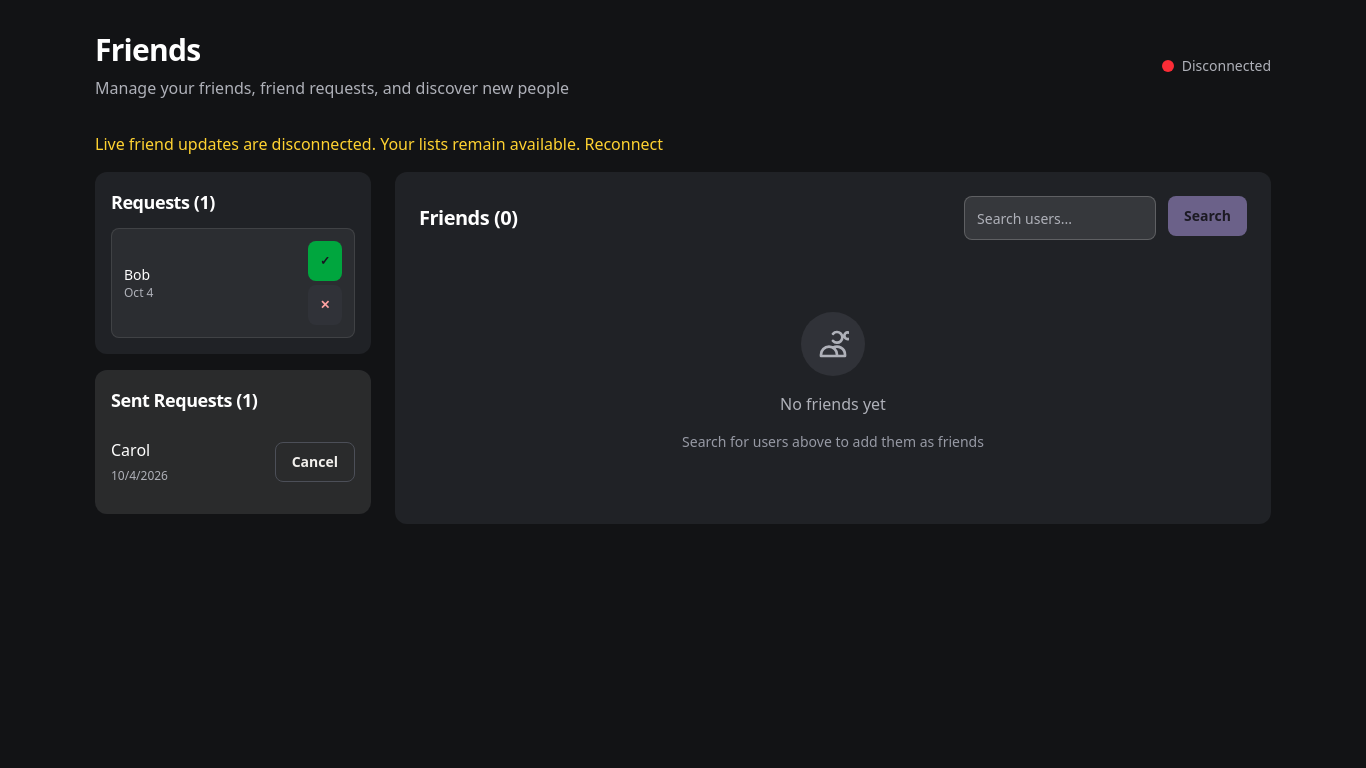
Test case: friend request UI transitions without an own realtime echo › keeps a rejected accept action, then adds the friend and locally removes it after success
Click the button named "Accept friend request from Bob".
click(325, 261)  # box [308, 241, 342, 281]
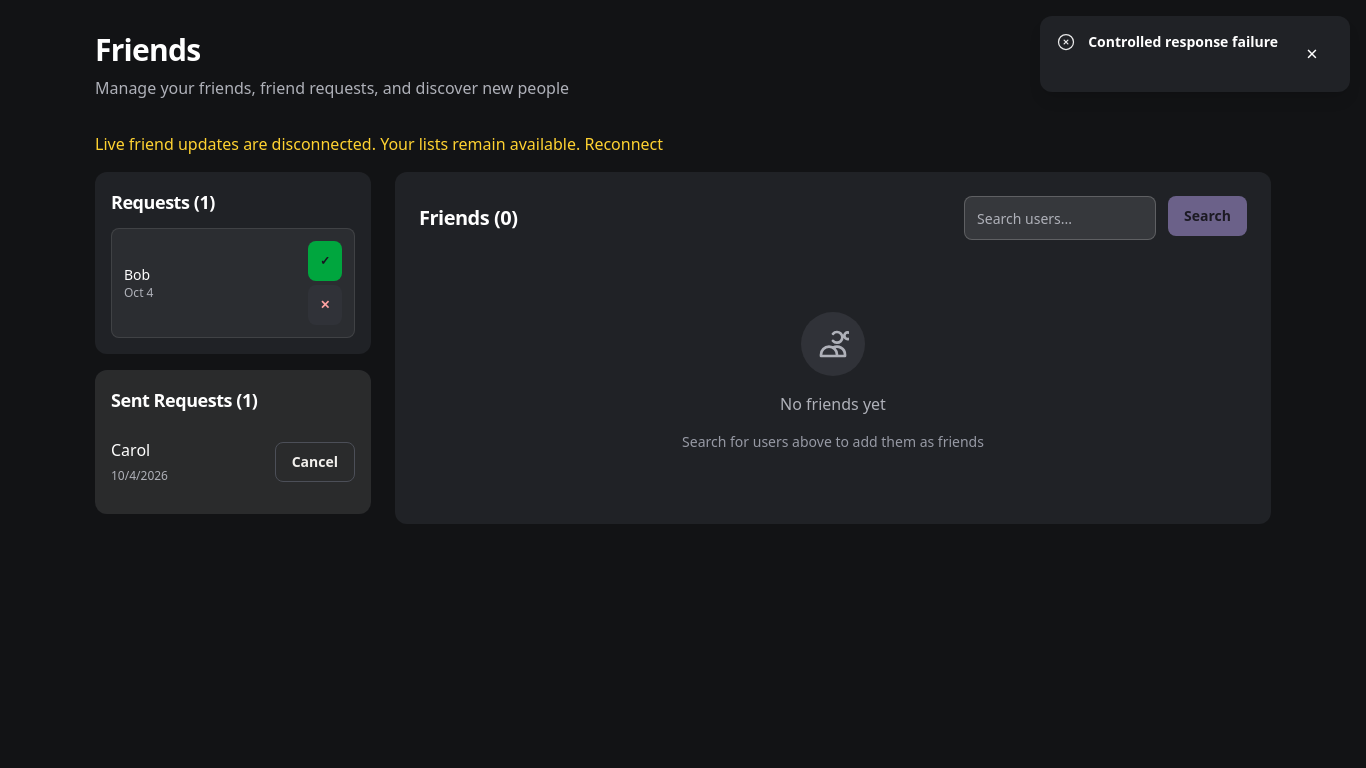
Result: the text "Controlled response failure" is shown at [1088, 32, 1278, 52]
Click the button named "Accept friend request from Bob".
click(325, 261)  # box [308, 241, 342, 281]
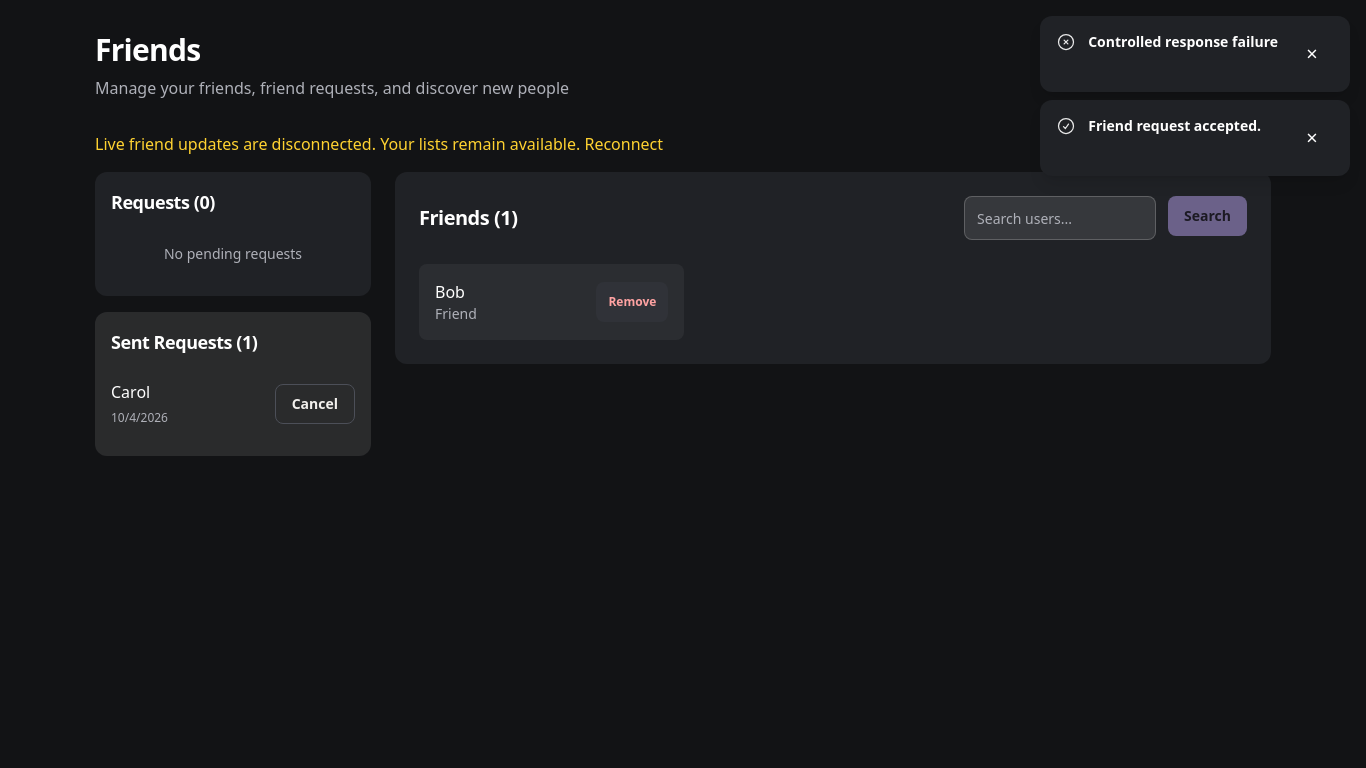
Result: the heading "Friends (1)" is shown at [419, 204, 517, 232]
Click the button "Remove".
click(632, 302)  # box [596, 282, 668, 322]
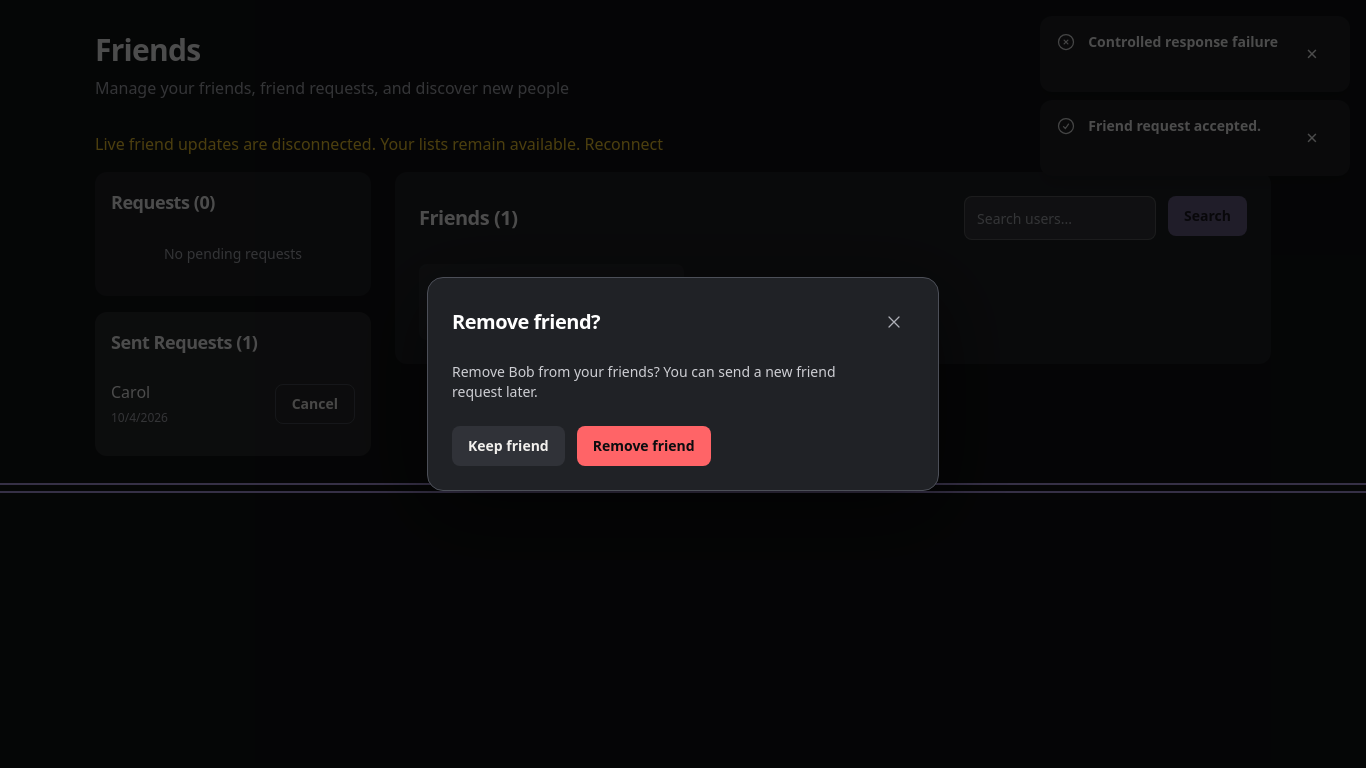
Click the button "Remove friend".
click(644, 446)  # box [577, 426, 711, 466]
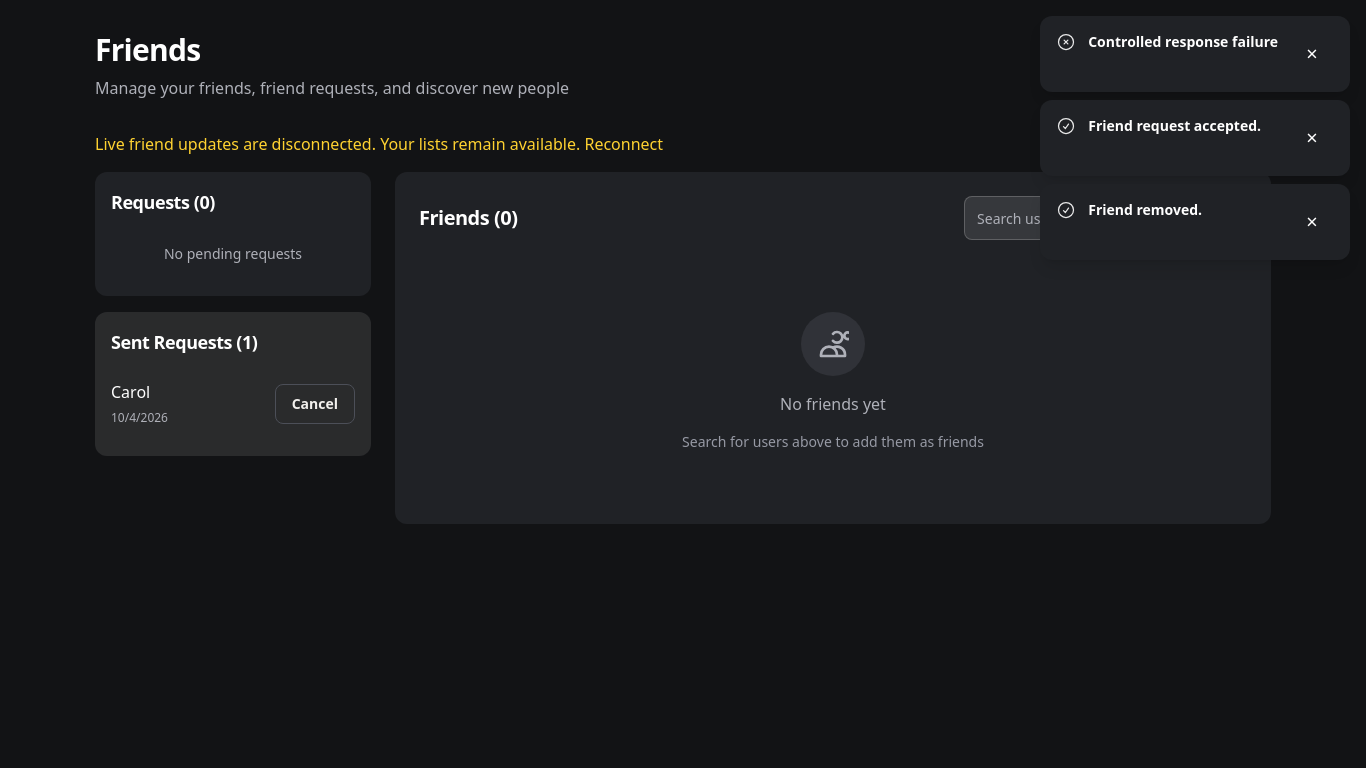
Result: the heading "Friends (0)" is shown at [419, 204, 517, 232]
